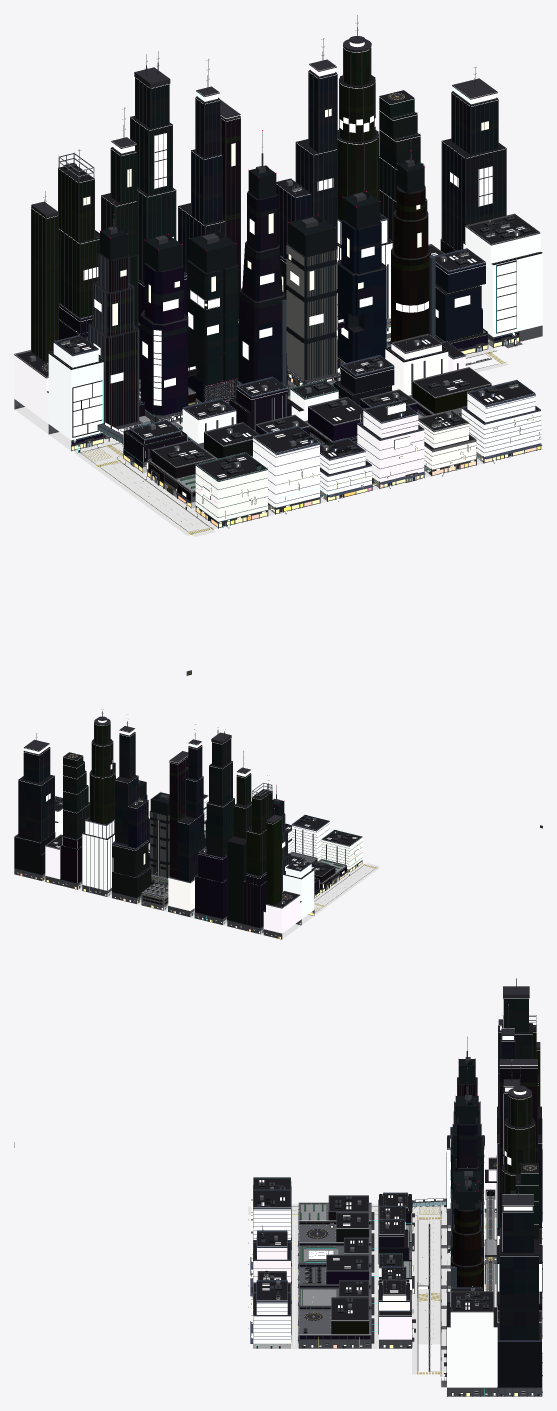
The model's file is world-high-corpo.glb.
The picture shows the model from 3 angles, top to bottom: view 1: azimuth 30°, elevation 25°; view 2: azimuth 150°, elevation 25°; view 3: azimuth 270°, elevation 25°; orthographic projection. The views are drawn at different scales.
Visible parts, largest first — view 1: corpo_corporate, corpo_trim, corpo_facade, corpo_roof, corpo_trim_detail, corpo_billboard, corpo_crown_glass, corpo_castconcrete, corpo_glow, corpo_board_frame, corpo_metal, corpo_asphalt (+8 smaller); view 2: corpo_corporate, corpo_facade, corpo_trim, corpo_trim_detail, corpo_roof, corpo_glow, corpo_castconcrete, corpo_sidewalk, corpo_asphalt, corpo_crown_glass, corpo_dark_detail, corpo_metal (+2 smaller); view 3: corpo_corporate, corpo_trim, corpo_roof, corpo_facade, corpo_asphalt, corpo_trim_detail, corpo_crown_glass, corpo_concrete, corpo_glow, corpo_sidewalk, corpo_metal, corpo_castconcrete (+5 smaller).
Part boxes in pixels (x1,y1,x2,y2): corpo_corporate: (32,48,518,501); corpo_trim: (14,36,542,535); corpo_facade: (14,220,542,521); corpo_roof: (17,71,540,480); corpo_trim_detail: (14,22,535,534); corpo_billboard: (73,115,516,527); corpo_crown_glass: (100,162,424,272); corpo_castconcrete: (139,243,489,490); corpo_glow: (15,14,542,491); corpo_board_frame: (72,108,540,527); corpo_metal: (44,15,531,475); corpo_asphalt: (80,443,215,536); corpo_corporate: (14,723,346,927); corpo_facade: (45,796,362,933); corpo_trim: (14,716,375,939); corpo_trim_detail: (14,723,377,939); corpo_roof: (16,732,360,912); corpo_glow: (18,704,343,935); corpo_castconcrete: (149,811,339,883); corpo_sidewalk: (14,863,379,939); corpo_asphalt: (311,863,378,912); corpo_crown_glass: (113,762,284,815); corpo_dark_detail: (25,794,351,935); corpo_metal: (36,711,351,880); corpo_corporate: (300,998,541,1387); corpo_trim: (248,986,542,1396); corpo_roof: (253,1023,541,1340); corpo_facade: (253,1138,541,1387); corpo_asphalt: (248,1206,440,1344); corpo_trim_detail: (253,1014,542,1396); corpo_crown_glass: (452,1059,481,1209); corpo_concrete: (253,1212,496,1348); corpo_glow: (253,968,542,1393); corpo_sidewalk: (253,1204,542,1396); corpo_metal: (259,978,532,1383); corpo_castconcrete: (428,1189,494,1370).
Size of the model in its own units: 472 by 249 by 420.
